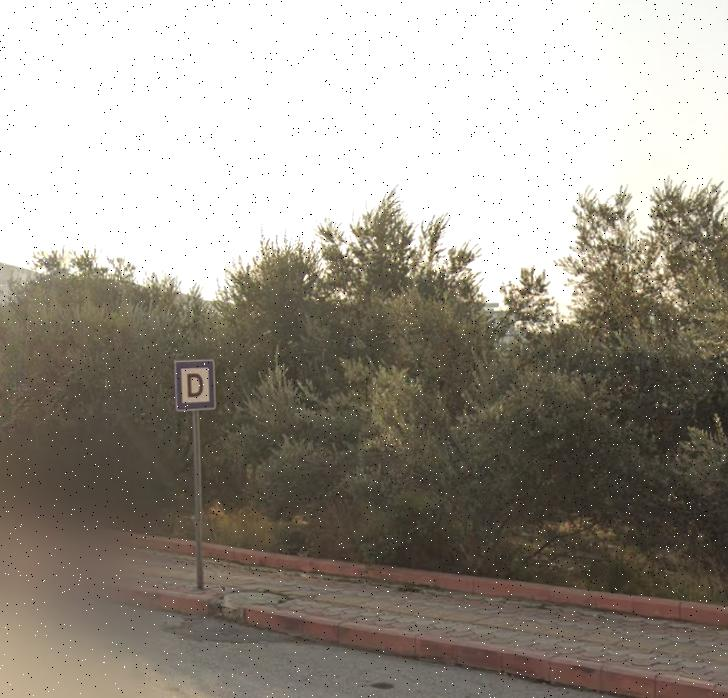station: (176, 361, 214, 407)
